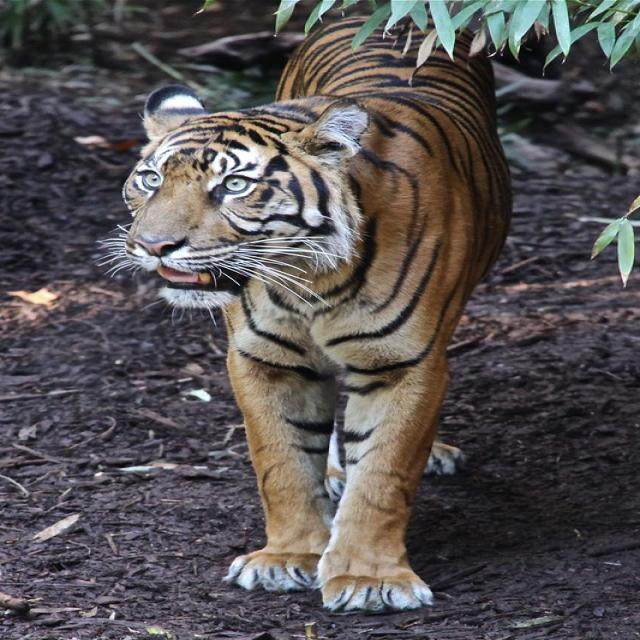Tiger: (116, 12, 518, 613)
